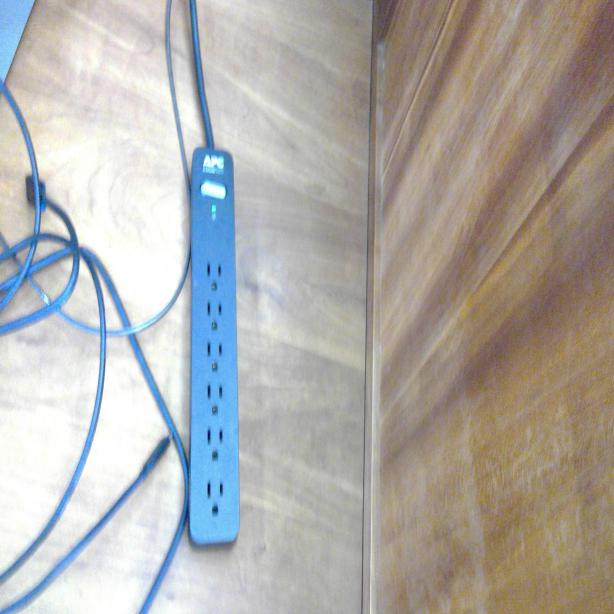typeb: (201, 418, 228, 467), (204, 470, 227, 520), (202, 336, 226, 379), (202, 378, 227, 419), (204, 298, 227, 336), (206, 257, 224, 294)
